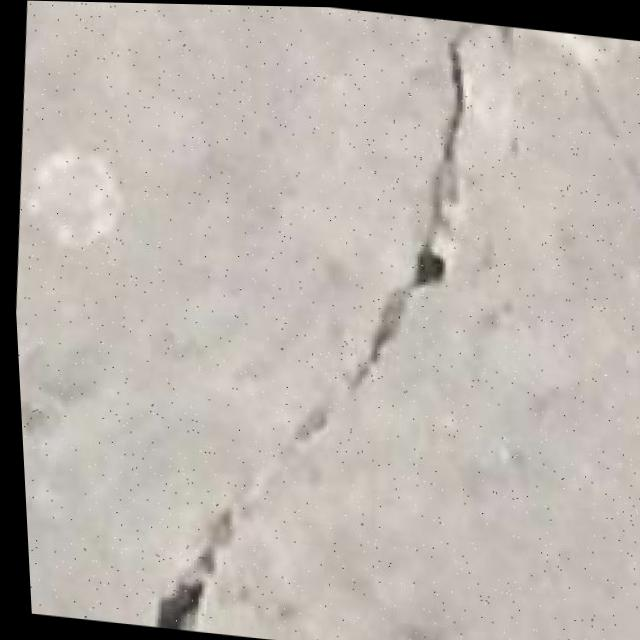Crack: (99, 2, 527, 640)
